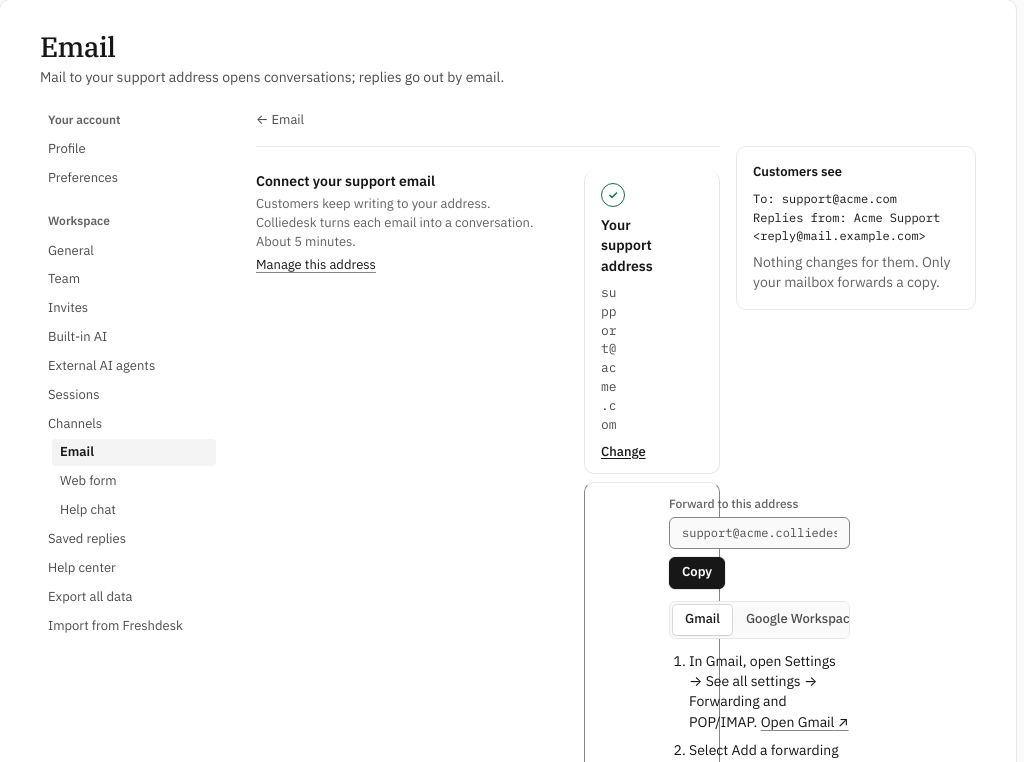
Test: a done step shows what it holds and opens again with Change
The width and height of the screenshot is (1024, 762).
Expected: the list item "✓ Your support address support@acme.com Change" is shown, [584,171,720,474]
Click the button "Change" at [623, 452], box [601,443,646,461]
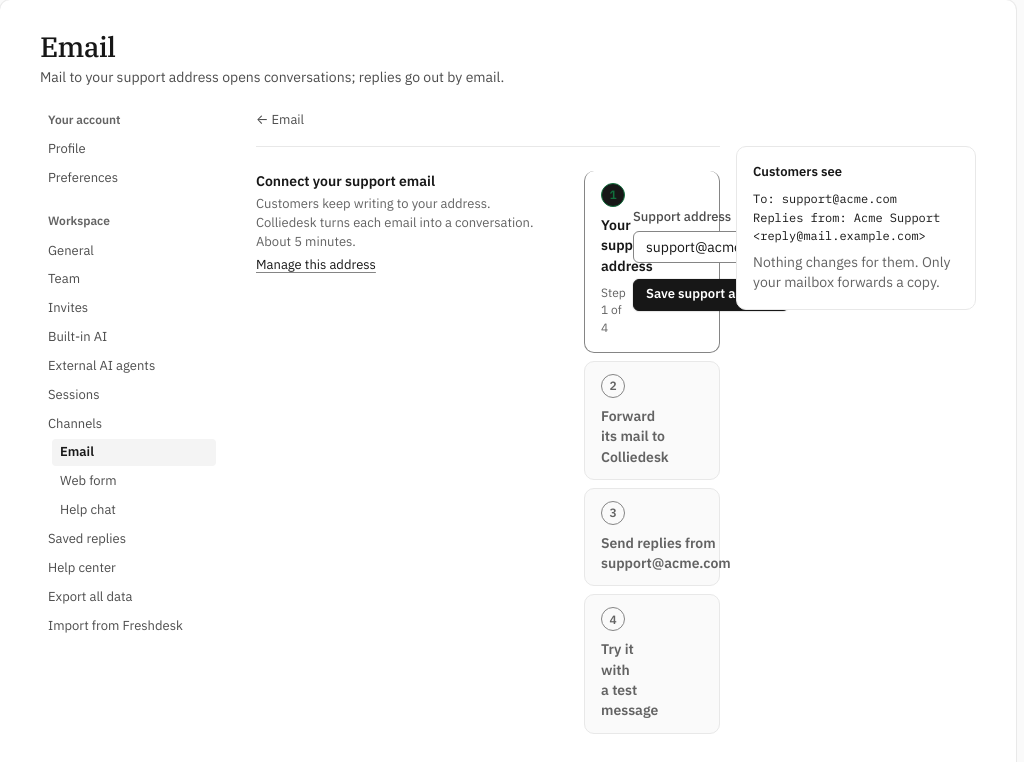
Result: the field labelled "Support address" holds "support@acme.com" at [633,231,818,263]
